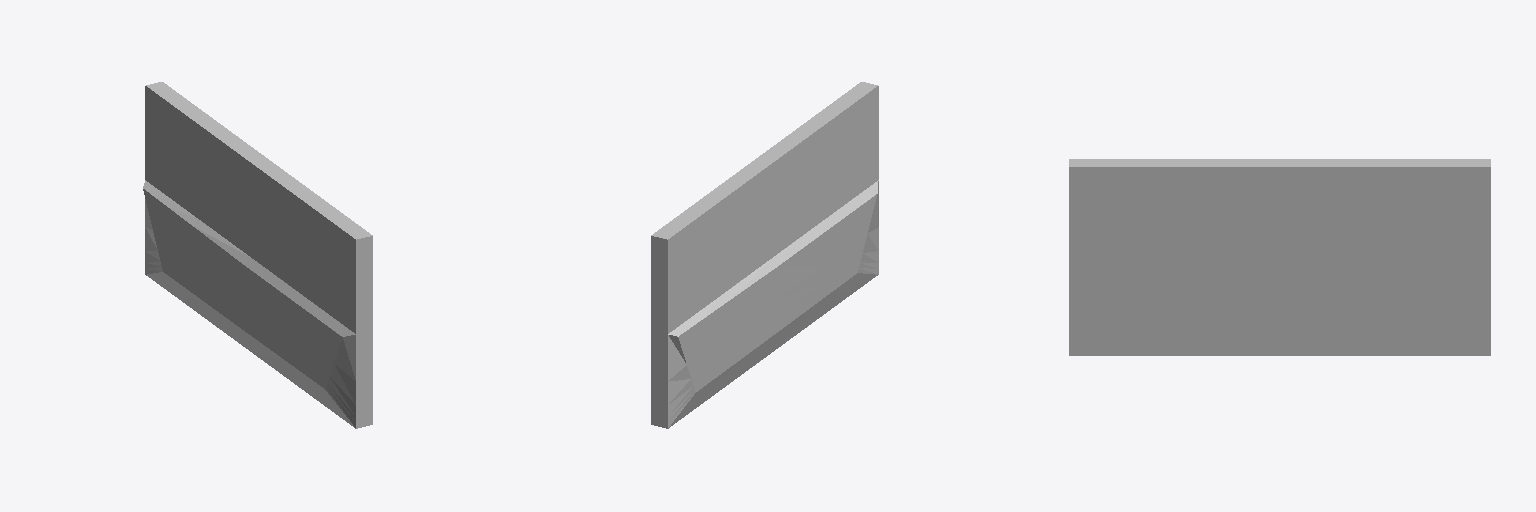
Rendered from television.obj.
3 renders of one model, left to right at view 1: azimuth 30°, elevation 25°; view 2: azimuth 150°, elevation 25°; view 3: azimuth 270°, elevation 25°, orthographic.
Visible parts, largest first — view 1: Cube; view 2: Cube; view 3: Cube.
Boxes of the visible parts, box(x1,y1,x2,y2) form: Cube: box(143, 82, 372, 428); Cube: box(651, 82, 878, 428); Cube: box(1069, 159, 1490, 355).
Bounding box in the file's own units: 0.2224 × 1.72 × 3.48.